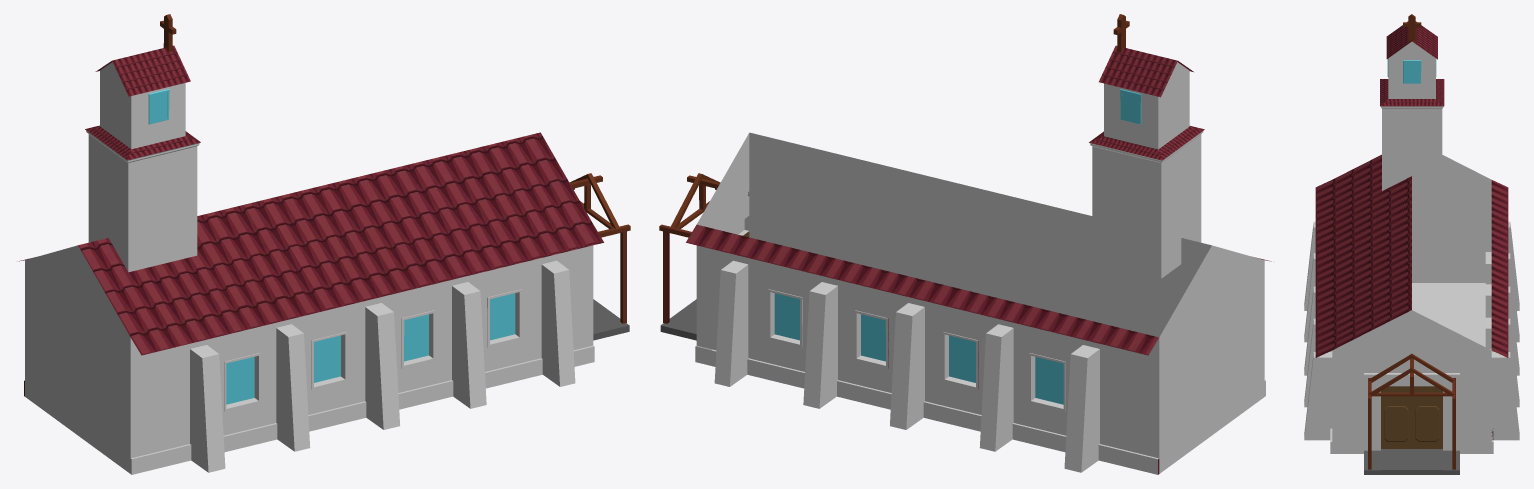
The model's file is Iglesia.fbx.
3 renders of one model, left to right at view 1: azimuth 30°, elevation 25°; view 2: azimuth 150°, elevation 25°; view 3: azimuth 270°, elevation 25°, orthographic. The views are drawn at different scales.
Parts seen in each view (by area): view 1: Cube; view 2: Cube; view 3: Cube.
Part boxes in pixels (x1,y1,x2,y2): Cube: [19, 14, 630, 474]; Cube: [659, 14, 1271, 474]; Cube: [1304, 14, 1519, 474].
Size of the model in its own units: 2500 by 1819 by 1178.
